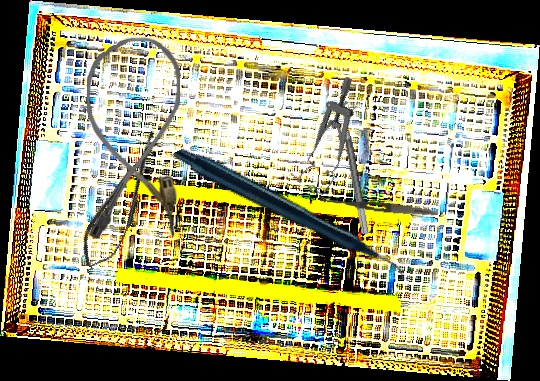Cannula: (84, 36, 181, 241)
Dressing Forceps: (319, 195, 439, 219)
Fixation Ring: (337, 99, 381, 235)
Handpiece: (171, 85, 407, 348)
Micro Scissor: (71, 126, 176, 275)
Speculum: (281, 75, 386, 198)
